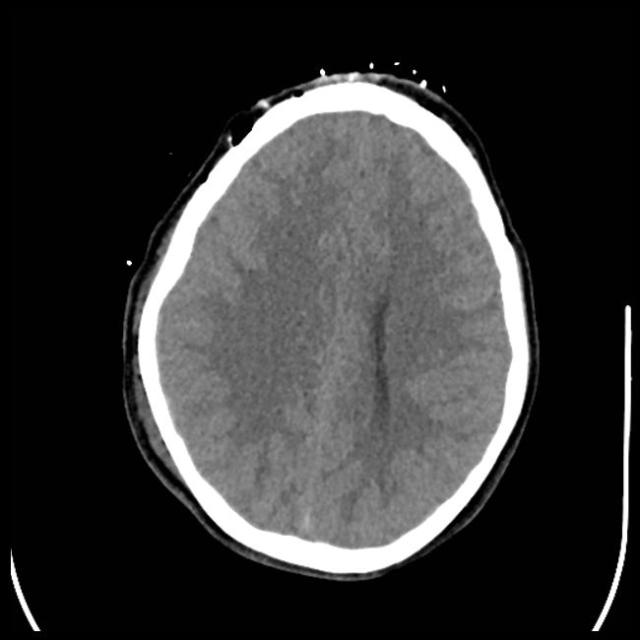lesion: (121, 72, 541, 578)
